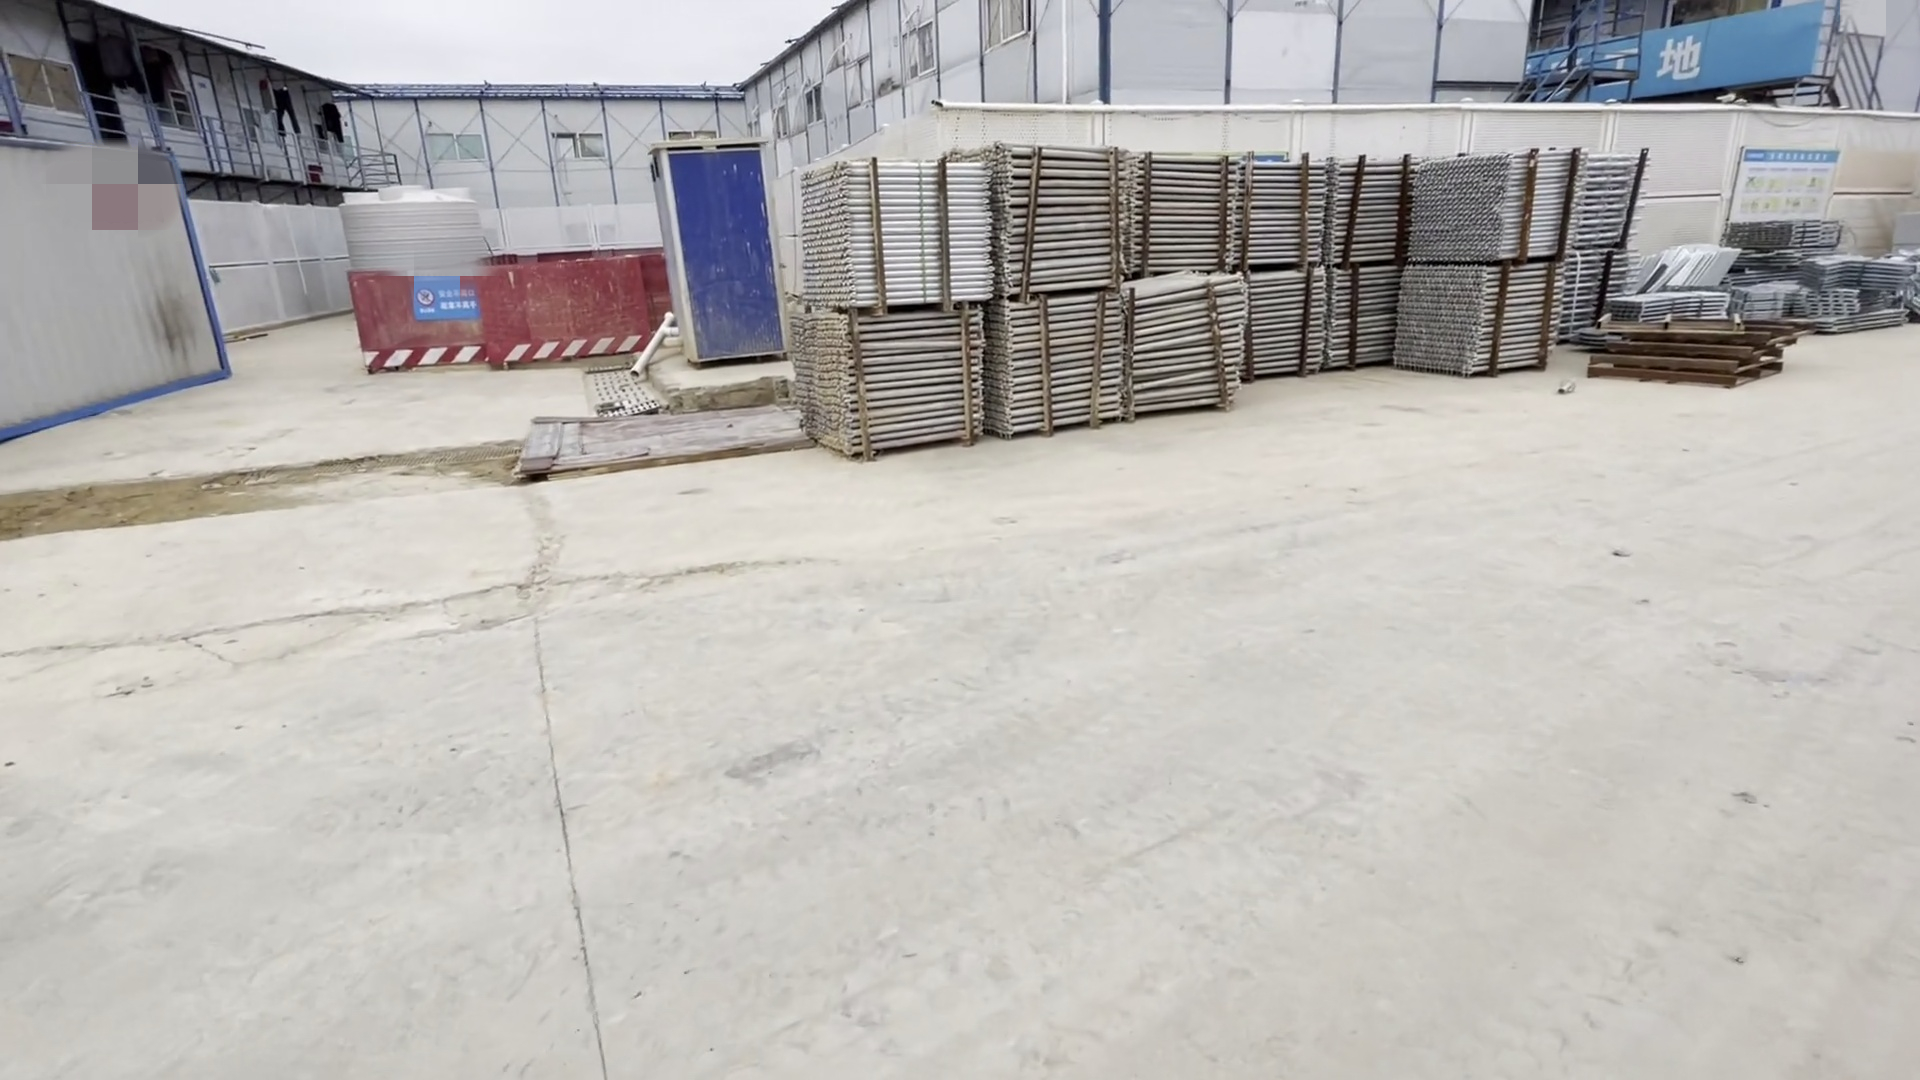fence: (324, 255, 675, 388)
scaffold: (789, 153, 1621, 435), (1625, 214, 1920, 332)
